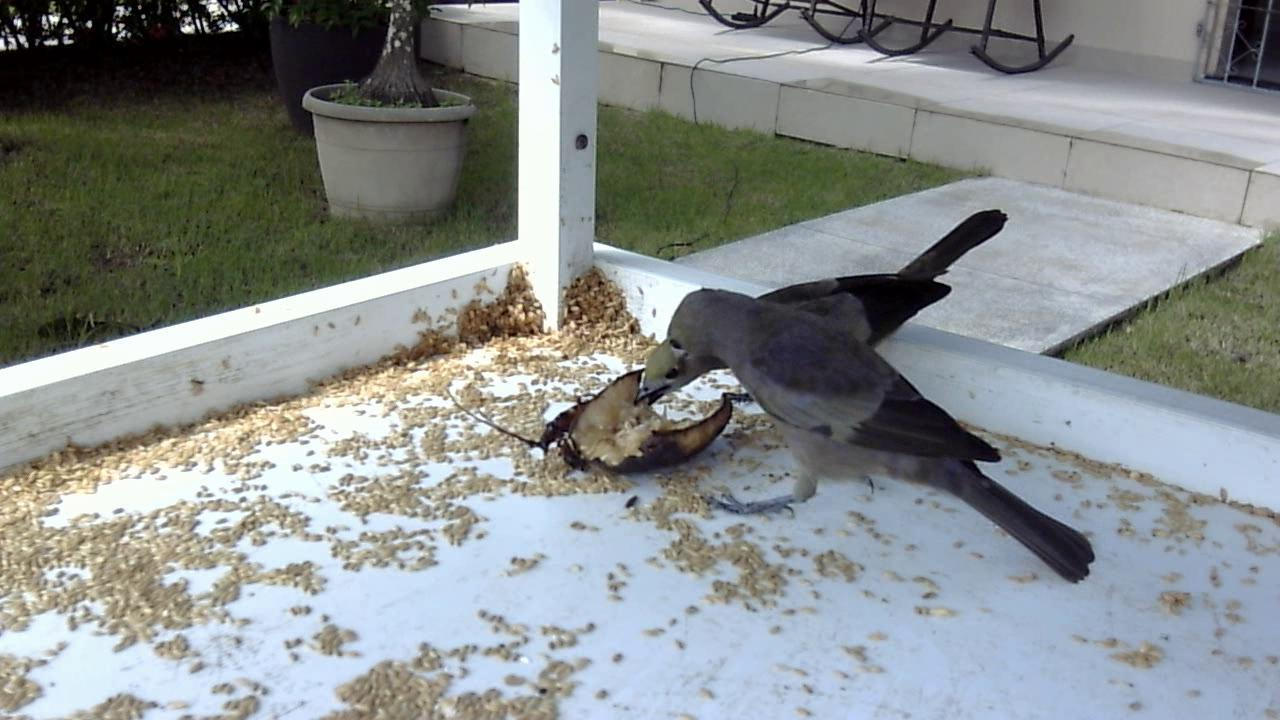sanhaco_do_coqueiro: (666, 285, 1106, 589), (638, 201, 1016, 407)
